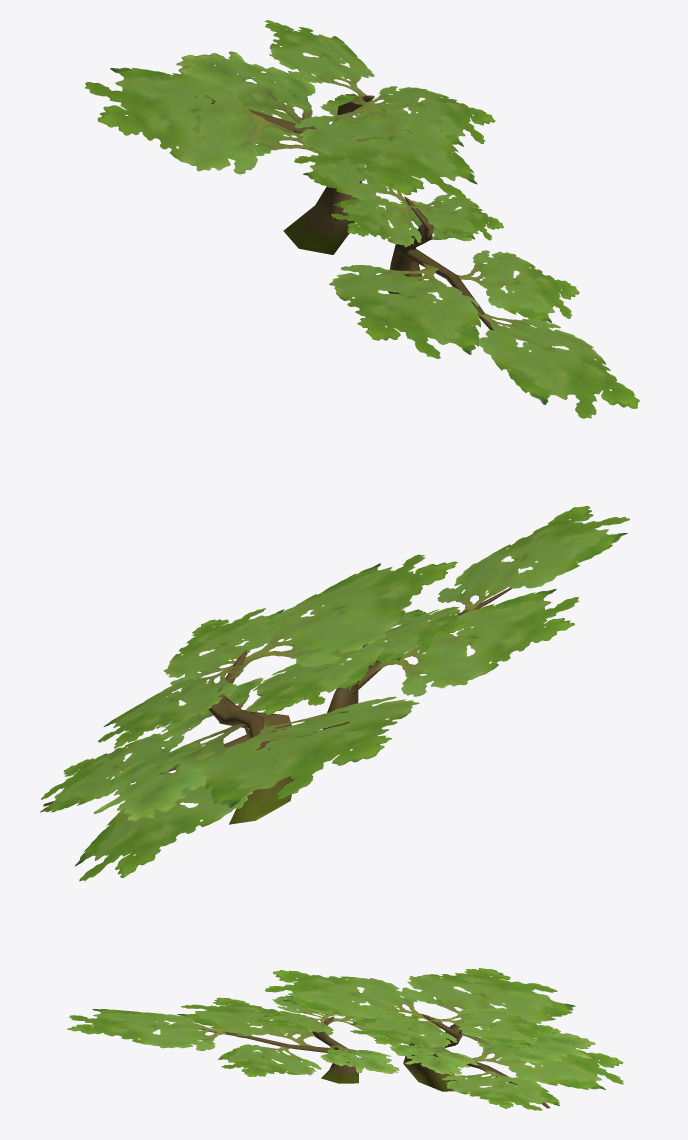
Rendered from liemo_plant_07 (21).fbx.
The picture shows the model from 3 angles, top to bottom: view 1: azimuth 30°, elevation 25°; view 2: azimuth 150°, elevation 25°; view 3: azimuth 270°, elevation 25°; orthographic projection. The views are drawn at different scales.
Parts seen in each view (by area): view 1: liemo_plant_07 (21); view 2: liemo_plant_07 (21); view 3: liemo_plant_07 (21).
Boxes of the visible parts, x1=… form: liemo_plant_07 (21): x1=85, y1=20, x2=639, y2=418; liemo_plant_07 (21): x1=40, y1=506, x2=629, y2=881; liemo_plant_07 (21): x1=67, y1=968, x2=623, y2=1110.
Size of the model in its own units: 4.07 by 1.82 by 10.82.
